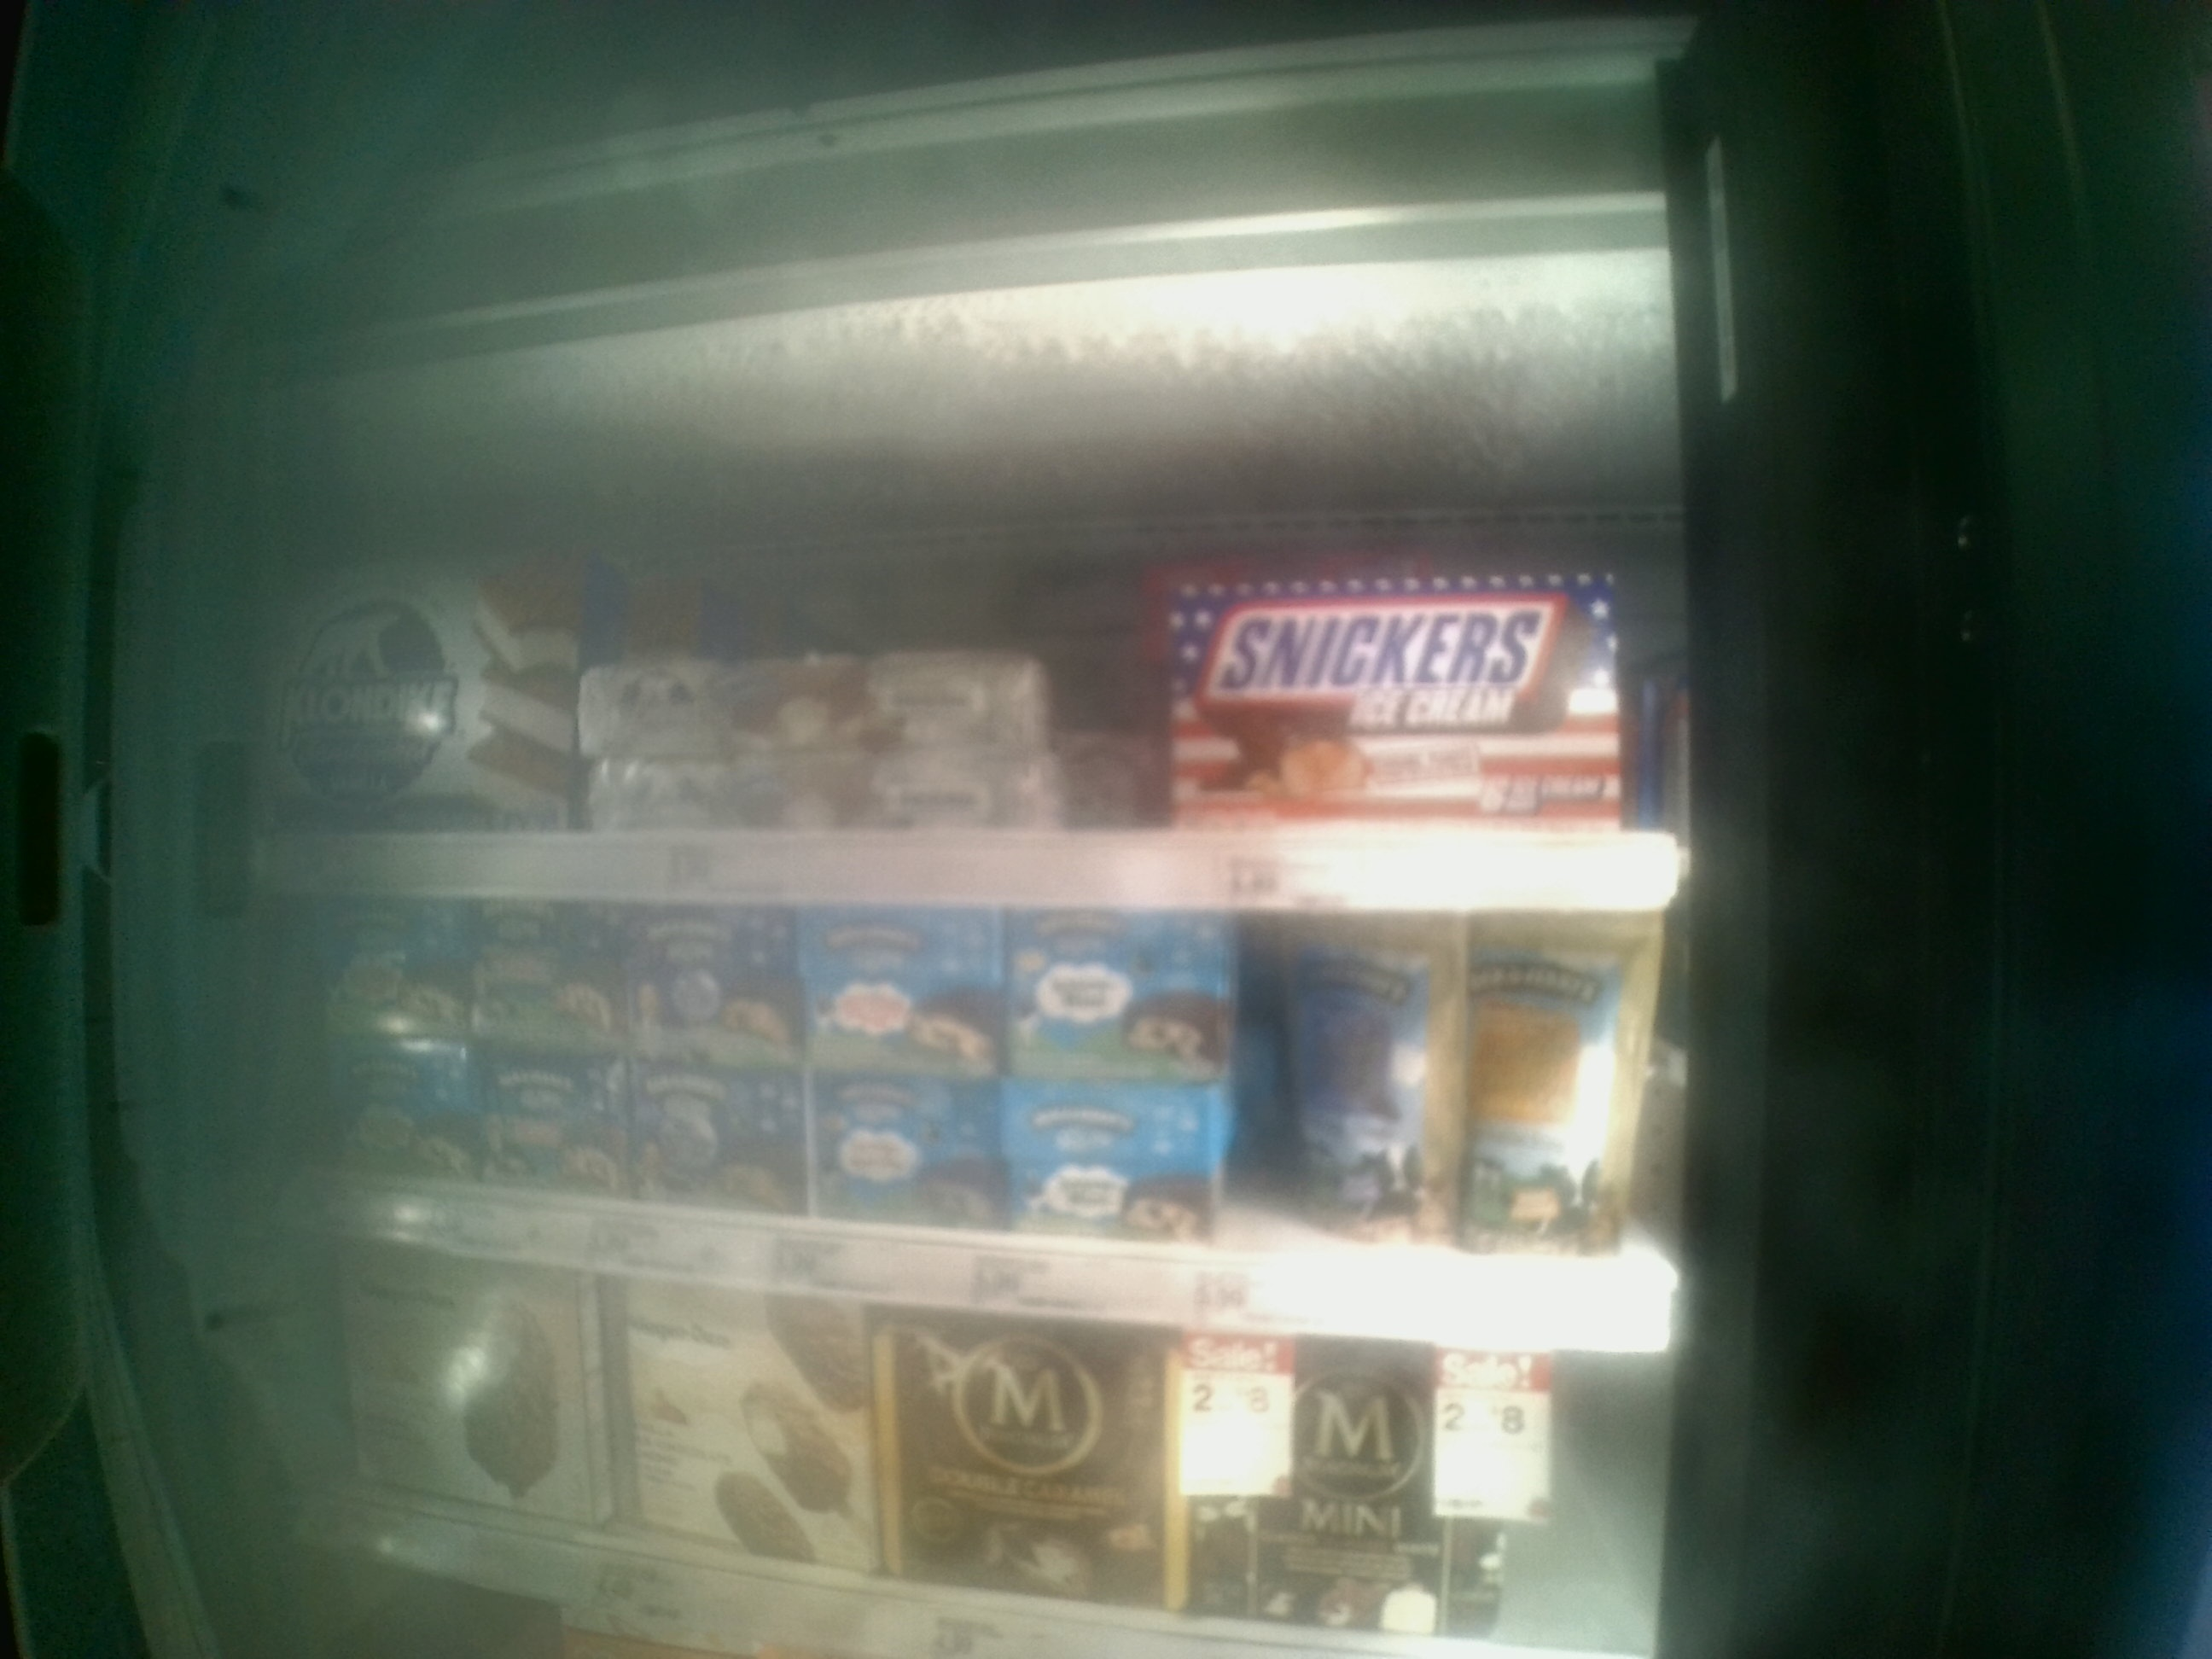shelf: (235, 420, 1689, 908), (240, 904, 1684, 1351)
